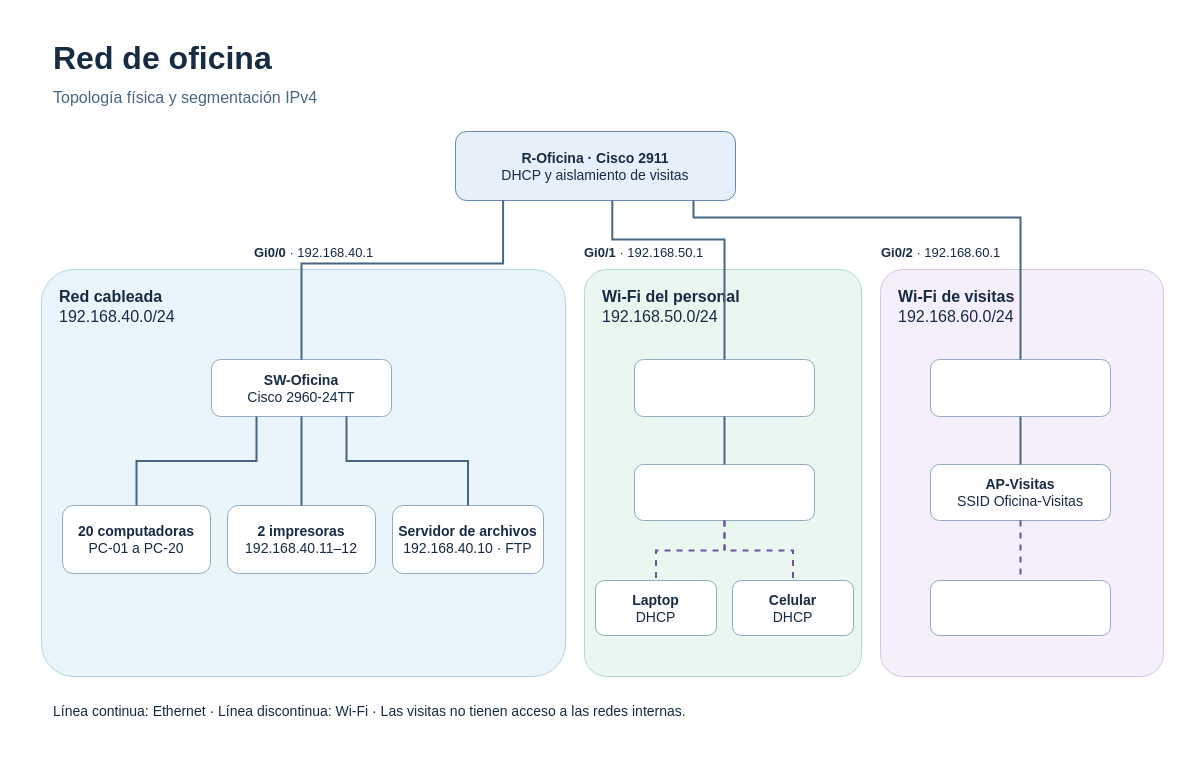
The diagram is 1204 pixels wide and 774 high, and some of its shapes have lost their labels. The shapes that lost their labels are listed below. From the top down, each one's centre as x and y in pixels, then its label:
point 724,387: SW-Personal Cisco 2960-24TT
point 1020,387: SW-Visitas Cisco 2960-24TT
point 724,492: AP-Personal SSID Oficina-Personal
point 1020,608: Celular de visita DHCP
